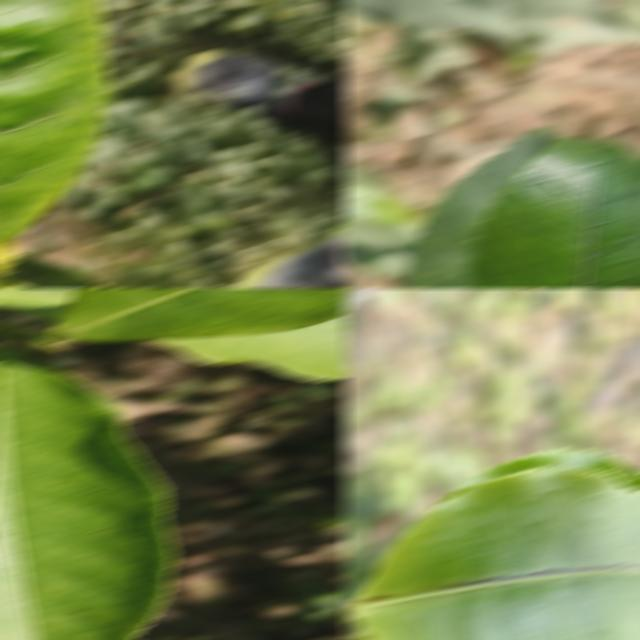Leaf: (342, 460, 640, 640), (0, 344, 173, 640), (459, 138, 640, 288), (0, 0, 108, 240), (401, 130, 555, 288), (45, 288, 348, 341), (146, 316, 348, 381), (342, 163, 424, 277), (342, 0, 519, 44), (507, 0, 632, 45), (0, 288, 78, 321)
